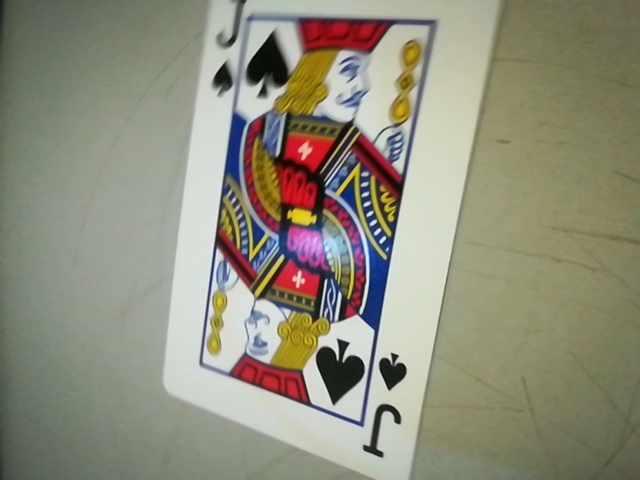ht j: (360, 341, 414, 471)
